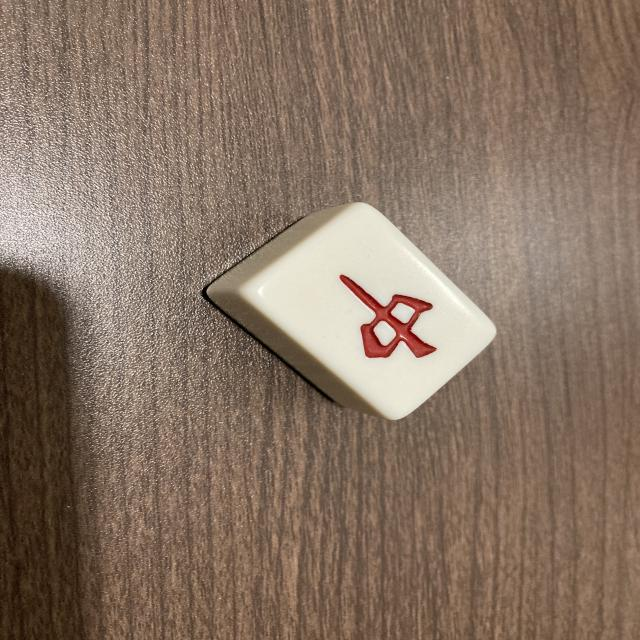zhong: (247, 196, 497, 428)
